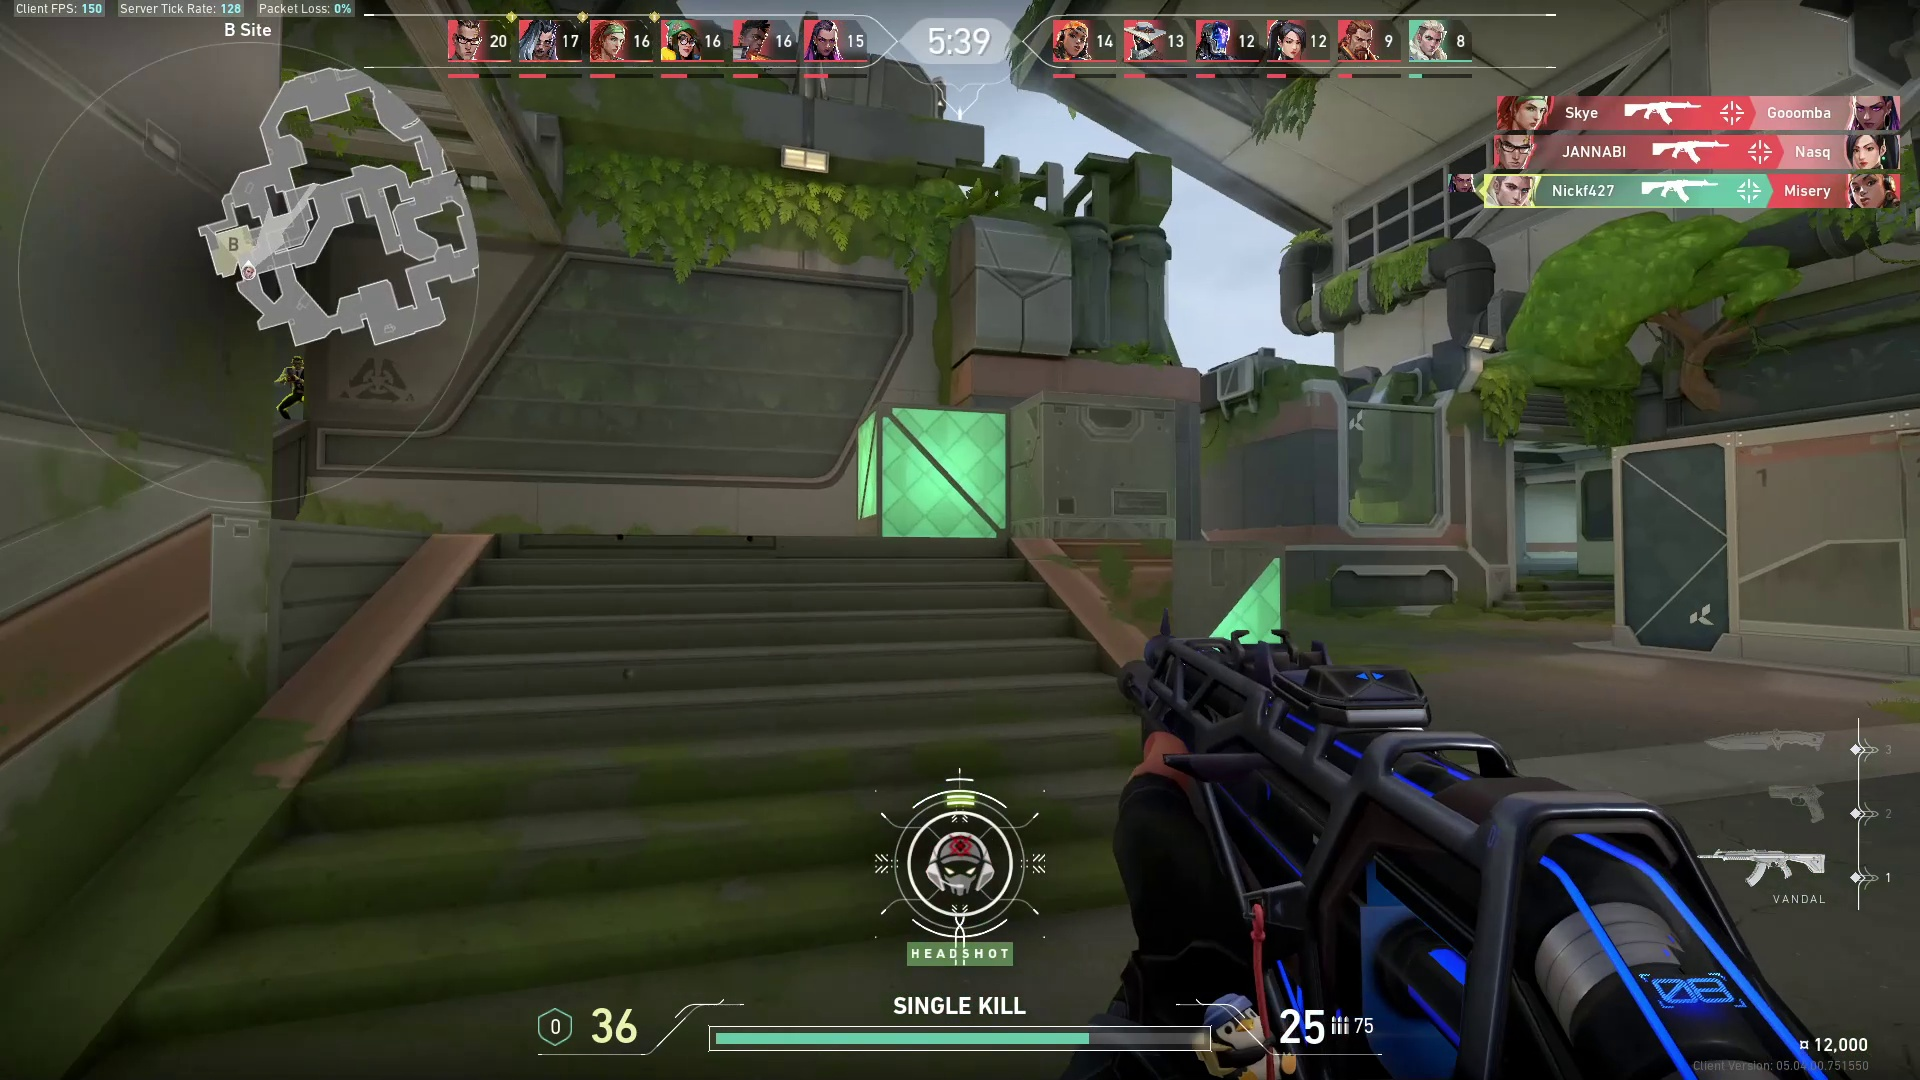enemy_body: (274, 367, 306, 419)
enemy_head: (290, 353, 303, 371)
